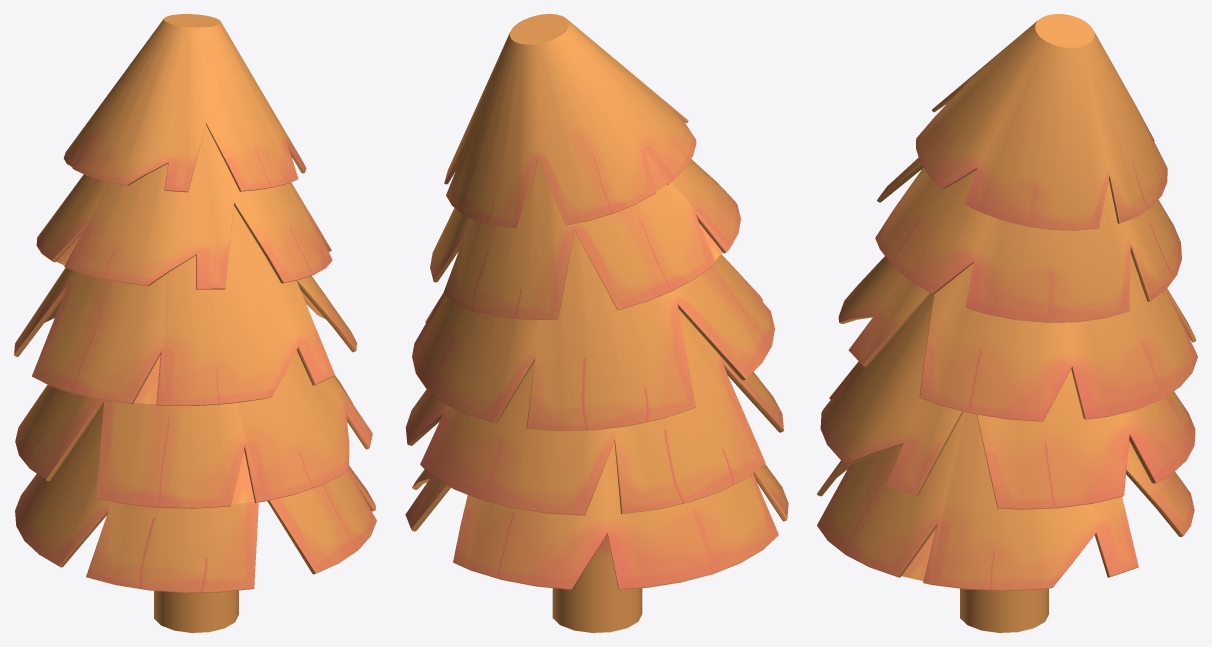
File: tree_orange.obj
3 renders of one model, left to right at view 1: azimuth 30°, elevation 25°; view 2: azimuth 150°, elevation 25°; view 3: azimuth 270°, elevation 25°, orthographic. The views are drawn at different scales.
Visible parts, largest first — view 1: tree_orange; view 2: tree_orange; view 3: tree_orange.
Boxes of the visible parts, x1,y1,x2,y2 form: tree_orange: (14, 14, 376, 632); tree_orange: (405, 14, 788, 632); tree_orange: (817, 14, 1197, 632).
Bounding box in the file's own units: 4.5 × 7.83 × 4.49.
Materials: 1 (1 with a texture image).
